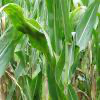Corn Gray leaf spot: (1, 1, 58, 71), (75, 1, 99, 58), (0, 24, 26, 74)
